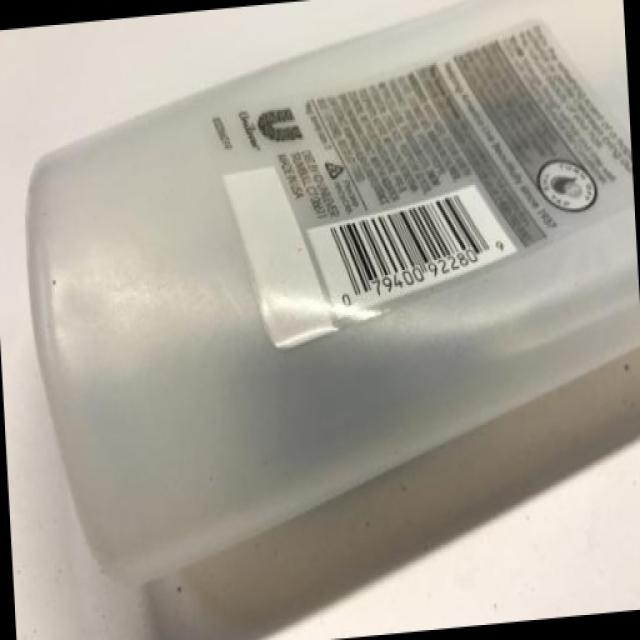plastico: (2, 16, 640, 618)
